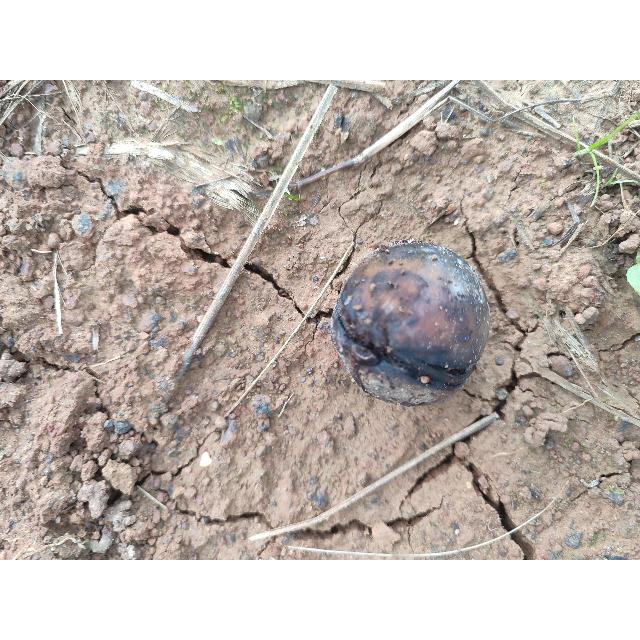damaged: (330, 242, 491, 407)
